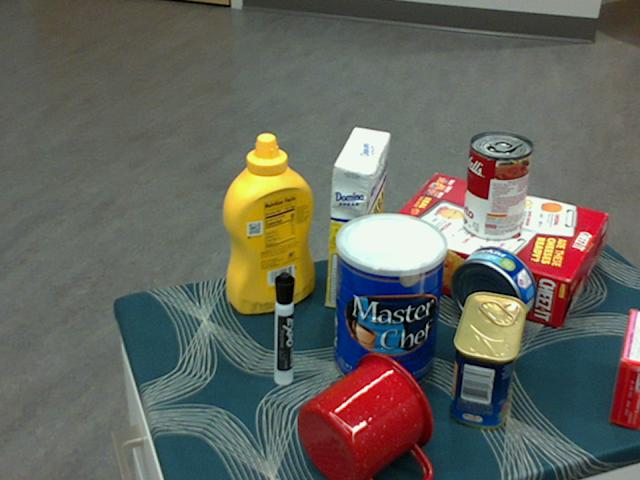cracker_box: (379, 175, 605, 325)
gelatin_box: (608, 310, 639, 430)
large_marker: (271, 271, 293, 387)
master_chef_can: (334, 213, 448, 393)
mug: (296, 352, 434, 479)
mustard_bottle: (221, 133, 314, 314)
potted_meat_can: (451, 292, 526, 429)
sugar_box: (324, 128, 390, 314)
tomato_soup_can: (463, 133, 533, 242)
tuna_fish_can: (451, 245, 537, 331)
